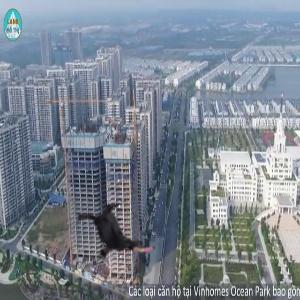drone: (73, 191, 156, 274)
